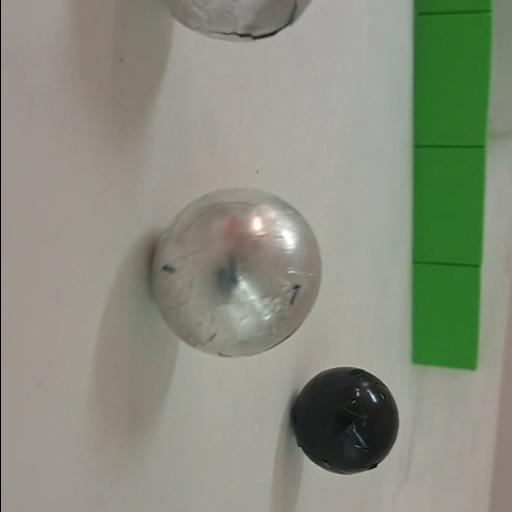alive: (149, 186, 321, 356), (142, 0, 326, 40)
dead: (291, 366, 399, 474)
